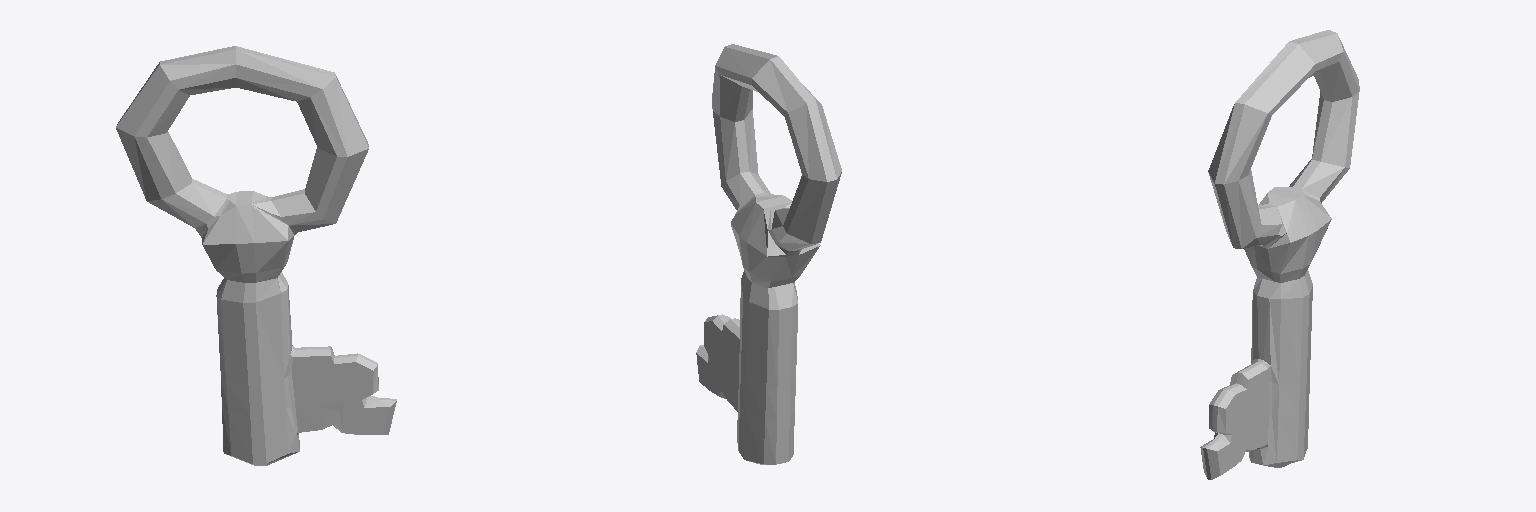
The model's file is master_key.obj.
3 renders of one model, left to right at view 1: azimuth 30°, elevation 25°; view 2: azimuth 150°, elevation 25°; view 3: azimuth 270°, elevation 25°, orthographic.
Visible parts, largest first — view 1: Cube; view 2: Cube; view 3: Cube.
Boxes of the visible parts, box(x1,y1,x2,y2) form: Cube: box(116, 46, 396, 465); Cube: box(696, 44, 841, 464); Cube: box(1200, 30, 1359, 479).
Size of the model in its own units: 0.3214 by 0.6075 by 0.2116.